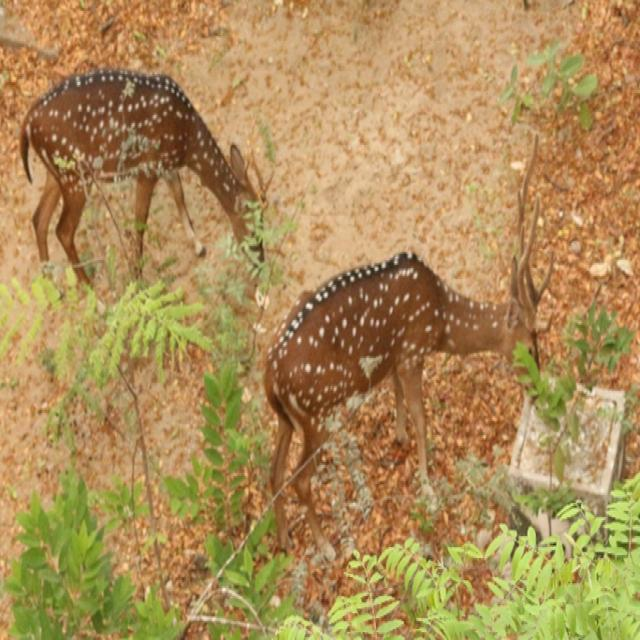Deer: (262, 134, 557, 559), (22, 63, 271, 289)
